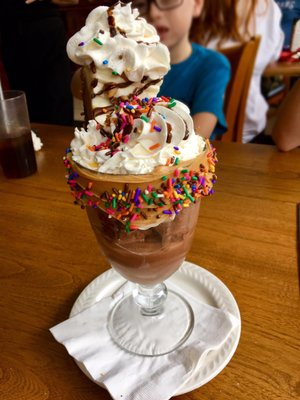pizza: (0, 89, 38, 180)
